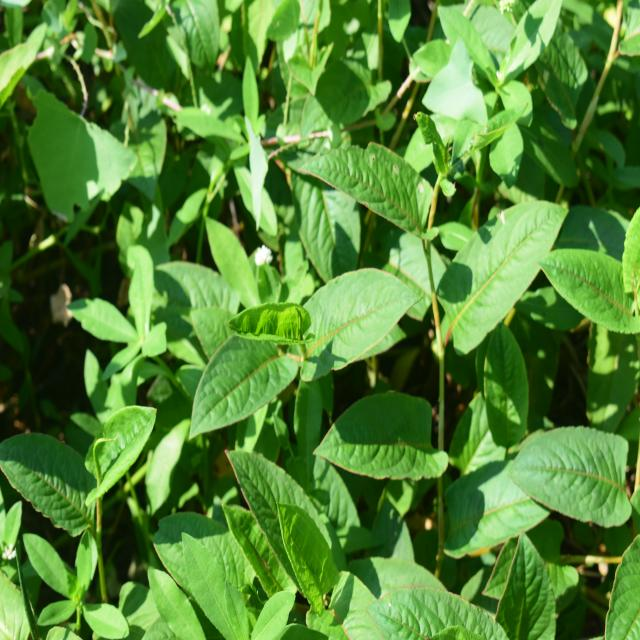Chinese_knotweed: (341, 121, 545, 502), (192, 232, 395, 476)
